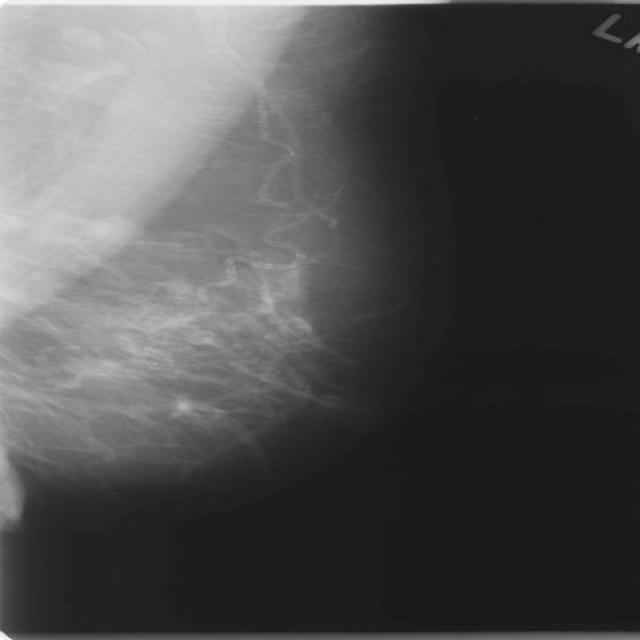tumour: (85, 214, 140, 241)
